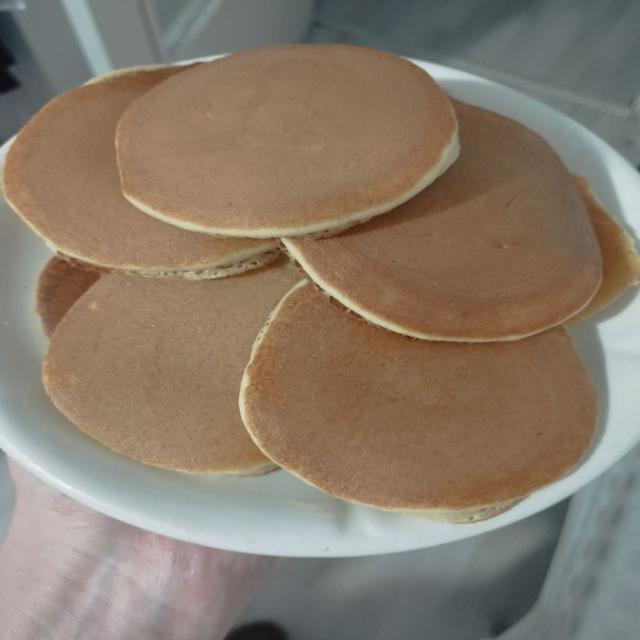pancake: (240, 282, 597, 521), (282, 102, 600, 341), (117, 45, 458, 237), (3, 67, 276, 277), (44, 261, 299, 474), (567, 176, 639, 324), (36, 256, 104, 336), (186, 63, 198, 68)
